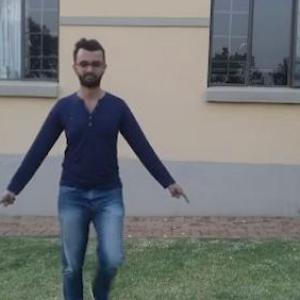land: (5, 55, 168, 299)
